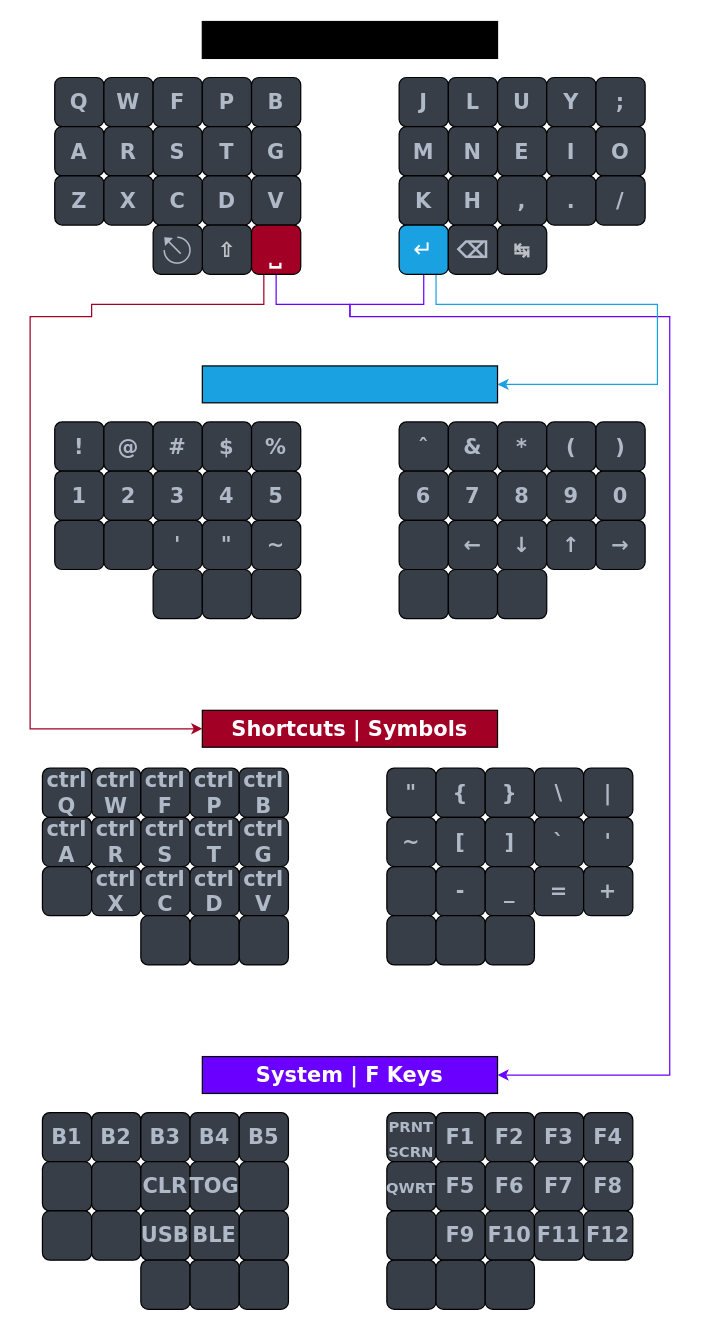
This 701x1331 diagram has some shape labels left out. Each missing label, with the centre of its shape:
"Base" goes at point (349, 39).
"CLMK" goes at point (411, 1235).
"ctrl K" goes at point (411, 890).
"ctrl Z" goes at point (66, 890).
"Numbers | Symbols" goes at point (349, 384).
